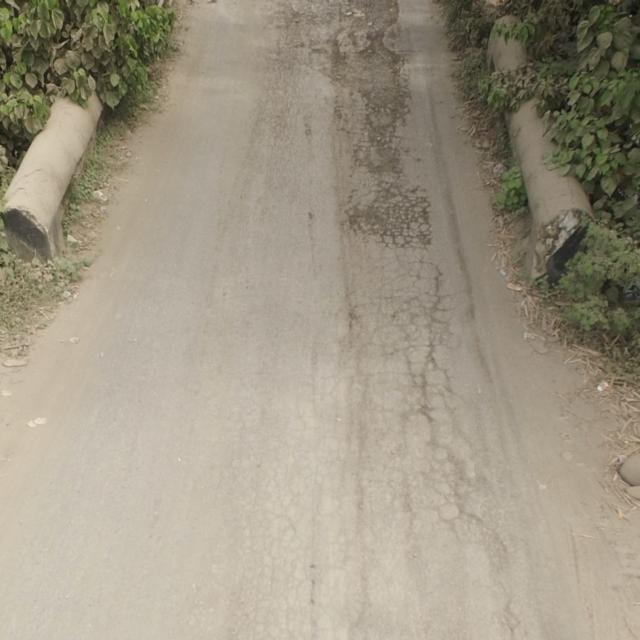BACHE: (337, 47, 399, 88)
PIEL DE COCODRILO: (230, 249, 524, 639), (335, 174, 435, 247), (259, 57, 298, 190)
